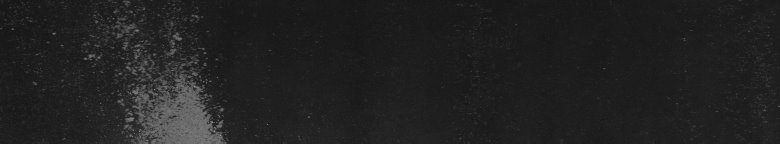kb: (124, 4, 192, 136)
